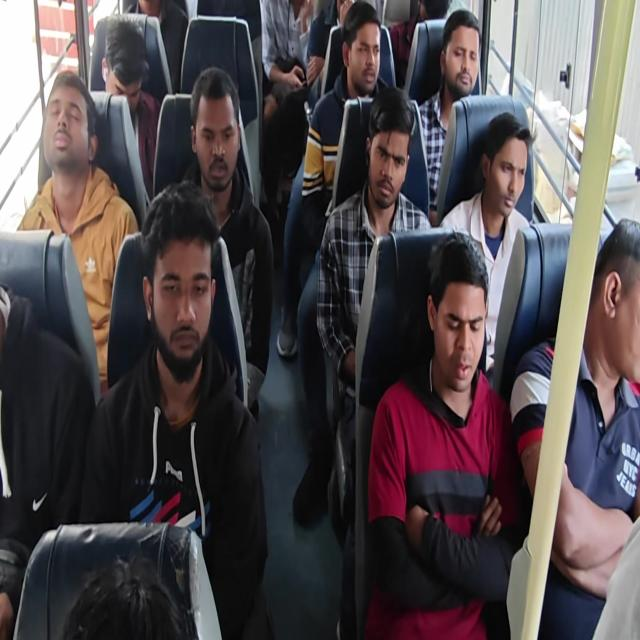person: (2, 1, 638, 638), (80, 180, 270, 638), (364, 230, 524, 638), (509, 217, 639, 638), (316, 85, 432, 539), (292, 1, 388, 526), (16, 69, 139, 397), (0, 282, 96, 638), (178, 66, 274, 420), (439, 110, 532, 387), (300, 0, 388, 248), (417, 8, 481, 223), (260, 0, 315, 217), (62, 550, 187, 639), (100, 18, 161, 200), (125, 0, 188, 95)
